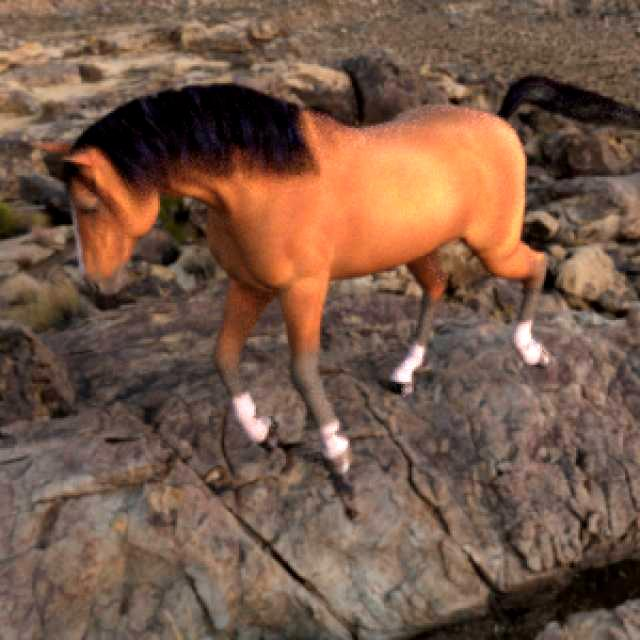horse: (65, 85, 550, 477), (504, 78, 639, 122)
